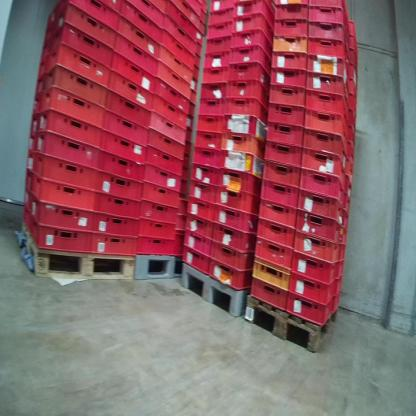pallet: (19, 218, 137, 284), (244, 290, 341, 359), (181, 260, 251, 317), (134, 252, 187, 279)
